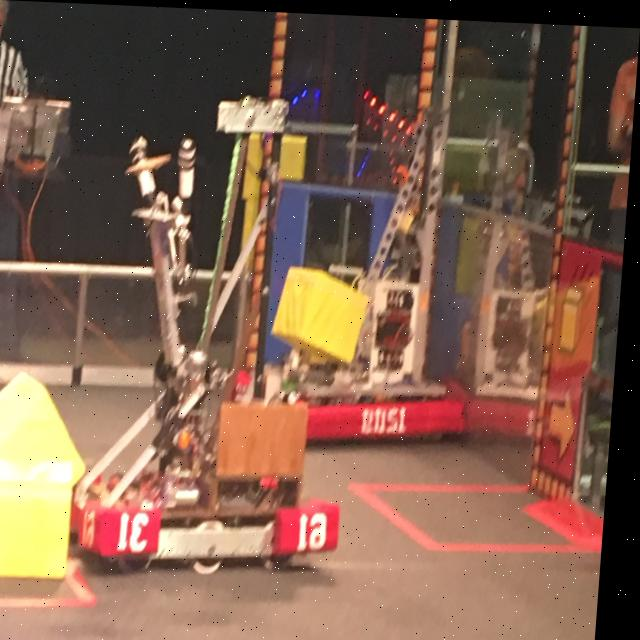robot: (71, 129, 370, 581), (235, 94, 489, 447)
